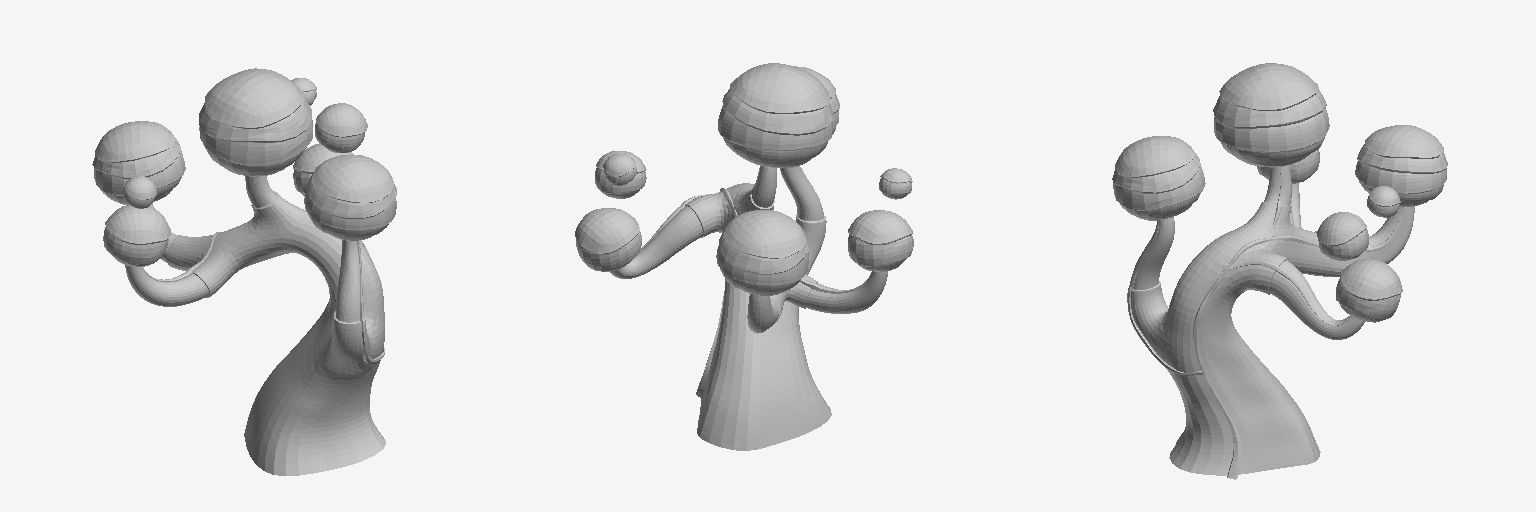
Rendered from tree-01-03.obj.
3 renders of one model, left to right at view 1: azimuth 30°, elevation 25°; view 2: azimuth 150°, elevation 25°; view 3: azimuth 270°, elevation 25°, orthographic.
Visible parts, largest first — view 1: trunk tree_01 Trees, tree_01 Trees pasted__section_01 bulb_large_02, tree_01 Trees pasted__section_01 bulb_large_01, tree_01 Trees pasted__section_01 bulb_large_03, tree_01 Trees bulb_large_02 pasted__section_03, tree_01 Trees bulb_large_02 pasted__section_02, tree_01 Trees pasted__section_01 bulb_small_02, tree_01 Trees bulb_large_01 pasted__section_02, tree_01 Trees bulb_large_03 pasted__section_02, tree_01 Trees pasted__section_01 bulb_small_03, tree_01 Trees bulb_large_01 pasted__section_03, tree_01 Trees bulb_small_02 pasted__section_02 (+7 smaller); view 2: trunk tree_01 Trees, tree_01 Trees pasted__section_01 bulb_large_02, tree_01 Trees pasted__section_01 bulb_large_03, tree_01 Trees bulb_large_02 pasted__section_02, tree_01 Trees pasted__section_01 bulb_small_01, tree_01 Trees bulb_large_02 pasted__section_03, tree_01 Trees pasted__section_01 bulb_small_02, tree_01 Trees bulb_large_03 pasted__section_02, tree_01 Trees bulb_small_02 pasted__section_02, tree_01 Trees bulb_large_03 pasted__section_03, tree_01 Trees bulb_large_02 pasted__section_04, tree_01 Trees bulb_small_01 pasted__section_02 (+4 smaller); view 3: trunk tree_01 Trees, tree_01 Trees vines, tree_01 Trees pasted__section_01 bulb_large_02, tree_01 Trees bulb_large_02 pasted__section_03, tree_01 Trees pasted__section_01 bulb_large_01, tree_01 Trees bulb_large_02 pasted__section_02, tree_01 Trees pasted__section_01 bulb_large_03, tree_01 Trees pasted__section_01 bulb_small_01, tree_01 Trees bulb_large_03 pasted__section_03, tree_01 Trees bulb_large_01 pasted__section_03, tree_01 Trees bulb_large_01 pasted__section_02, tree_01 Trees bulb_large_03 pasted__section_02 (+5 smaller).
Part boxes in pixels (x1,y1,x2,y2): trunk tree_01 Trees: (125, 176, 385, 475); tree_01 Trees pasted__section_01 bulb_large_02: (205, 68, 303, 128); tree_01 Trees pasted__section_01 bulb_large_01: (313, 155, 393, 202); tree_01 Trees pasted__section_01 bulb_large_03: (95, 121, 174, 163); tree_01 Trees bulb_large_02 pasted__section_03: (199, 120, 312, 165); tree_01 Trees bulb_large_02 pasted__section_02: (199, 98, 311, 142); tree_01 Trees pasted__section_01 bulb_small_02: (105, 205, 170, 244); tree_01 Trees bulb_large_01 pasted__section_02: (307, 172, 396, 218); tree_01 Trees bulb_large_03 pasted__section_02: (92, 138, 180, 178); tree_01 Trees pasted__section_01 bulb_small_03: (316, 103, 367, 137); tree_01 Trees bulb_large_01 pasted__section_03: (304, 190, 396, 229); tree_01 Trees bulb_small_02 pasted__section_02: (103, 227, 168, 264); trunk tree_01 Trees: (610, 166, 887, 450); tree_01 Trees pasted__section_01 bulb_large_02: (730, 63, 829, 113); tree_01 Trees pasted__section_01 bulb_large_03: (726, 210, 805, 258); tree_01 Trees bulb_large_02 pasted__section_02: (722, 88, 833, 135); tree_01 Trees pasted__section_01 bulb_small_01: (575, 208, 639, 254); tree_01 Trees bulb_large_02 pasted__section_03: (718, 105, 832, 150); tree_01 Trees pasted__section_01 bulb_small_02: (848, 210, 912, 244); tree_01 Trees bulb_large_03 pasted__section_02: (719, 228, 808, 274); tree_01 Trees bulb_small_02 pasted__section_02: (848, 234, 913, 266); tree_01 Trees bulb_large_03 pasted__section_03: (716, 244, 808, 285); tree_01 Trees bulb_large_02 pasted__section_04: (723, 137, 828, 163); tree_01 Trees bulb_small_01 pasted__section_02: (576, 230, 641, 271); trunk tree_01 Trees: (1129, 165, 1414, 475); tree_01 Trees vines: (1127, 167, 1404, 479); tree_01 Trees pasted__section_01 bulb_large_02: (1219, 63, 1318, 110); tree_01 Trees bulb_large_02 pasted__section_03: (1214, 108, 1329, 152); tree_01 Trees pasted__section_01 bulb_large_01: (1115, 136, 1194, 178); tree_01 Trees bulb_large_02 pasted__section_02: (1213, 90, 1326, 128); tree_01 Trees pasted__section_01 bulb_large_03: (1365, 125, 1443, 158); tree_01 Trees pasted__section_01 bulb_small_01: (1341, 259, 1402, 300); tree_01 Trees bulb_large_03 pasted__section_03: (1355, 161, 1446, 194); tree_01 Trees bulb_large_01 pasted__section_03: (1113, 165, 1205, 210); tree_01 Trees bulb_large_01 pasted__section_02: (1112, 153, 1200, 193); tree_01 Trees bulb_large_03 pasted__section_02: (1357, 144, 1447, 173).
Bounding box in the file's own units: 2.82 × 3.45 × 2.83.